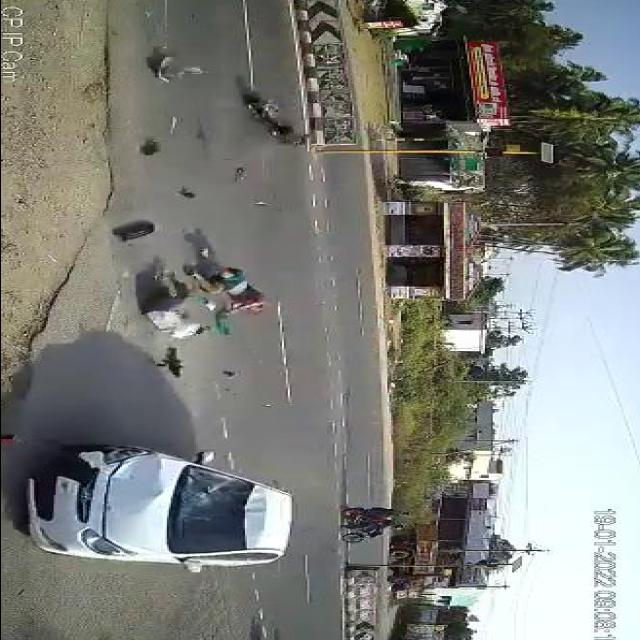accident: (15, 435, 301, 580), (227, 82, 319, 166)
